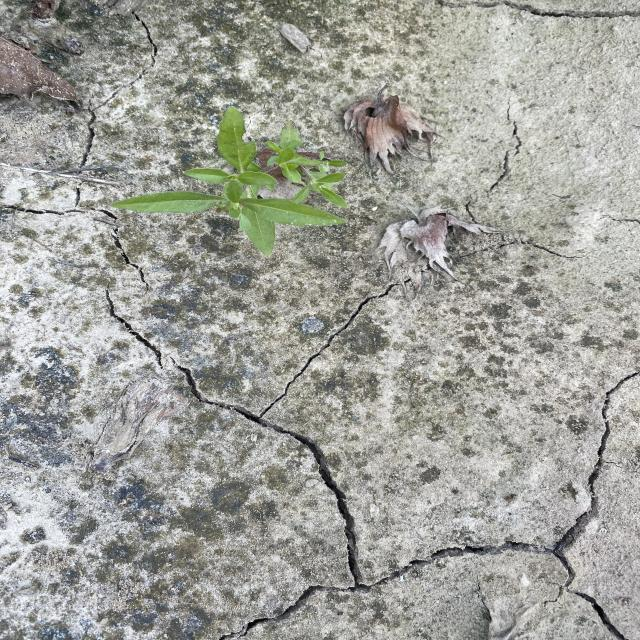Eclipta: (108, 104, 352, 256)
